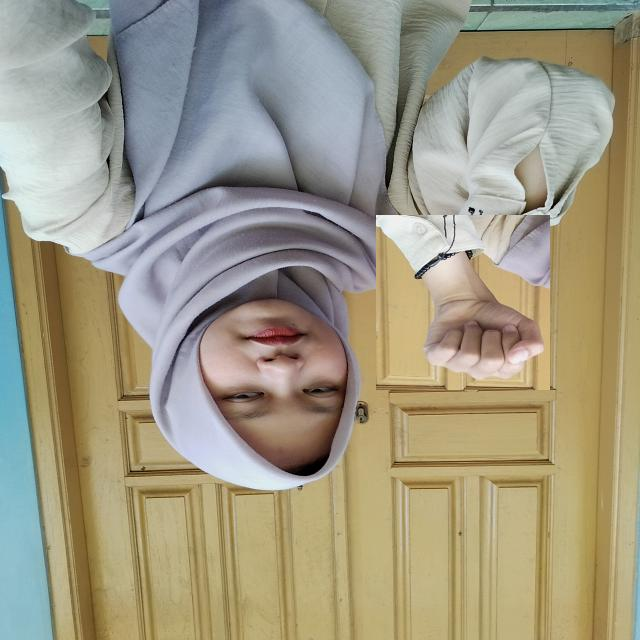baik: (376, 215, 550, 390)
